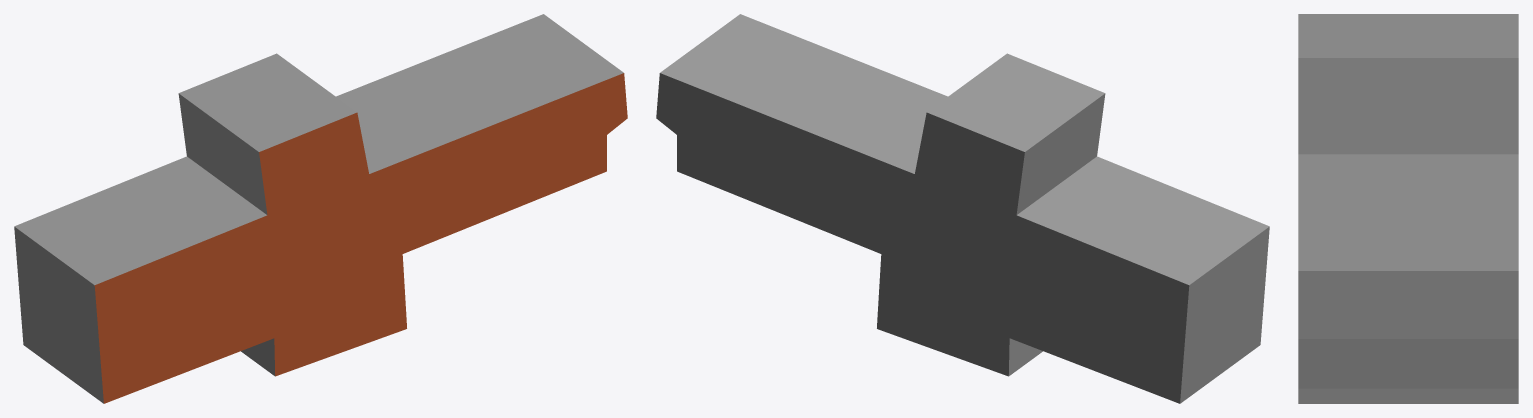
The model's file is construction_4993_assumed_A_Casa_h6m.obj.
3 renders of one model, left to right at view 1: azimuth 30°, elevation 25°; view 2: azimuth 150°, elevation 25°; view 3: azimuth 270°, elevation 25°, orthographic. The views are drawn at different scales.
Parts seen in each view (by area): view 1: construction_4993_assumed_A_Casa; view 2: construction_4993_assumed_A_Casa; view 3: construction_4993_assumed_A_Casa.
Part boxes in pixels (x1,y1,x2,y2): construction_4993_assumed_A_Casa: [14, 14, 627, 403]; construction_4993_assumed_A_Casa: [656, 14, 1269, 403]; construction_4993_assumed_A_Casa: [1298, 14, 1518, 403].
Size of the model in its own units: 22.94 by 10.04 by 6.
